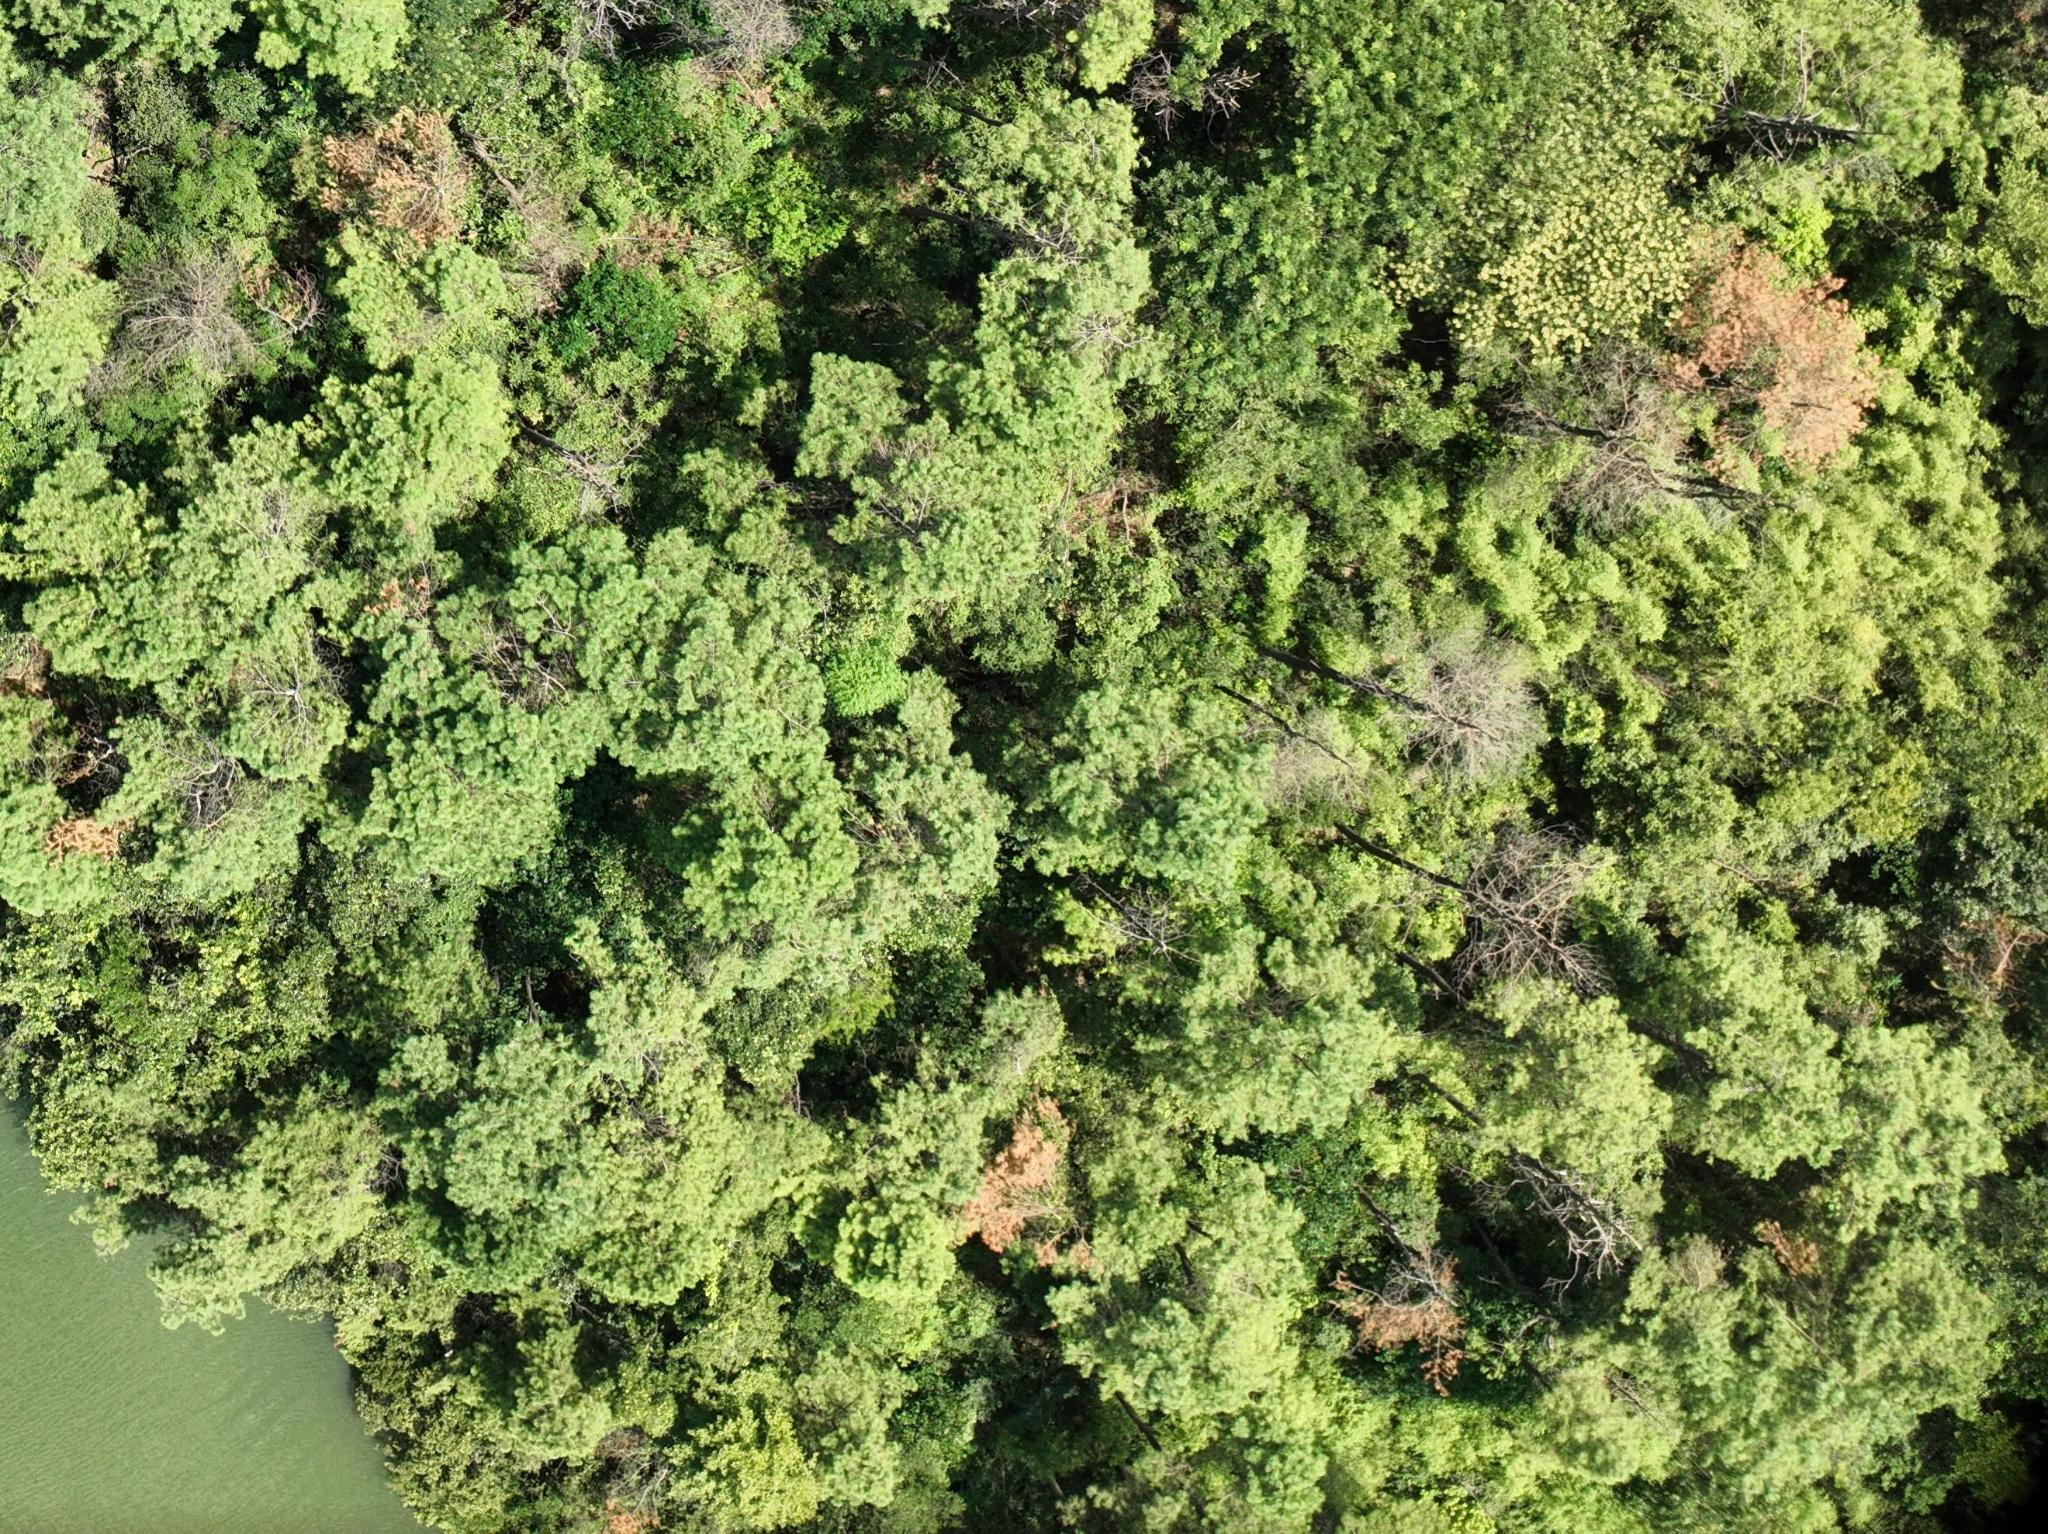dead: (1400, 635, 1532, 785), (1474, 843, 1594, 997), (701, 0, 796, 69)
heavy: (1690, 243, 1885, 467), (967, 1086, 1096, 1278), (1315, 1247, 1465, 1394), (316, 105, 466, 250), (596, 1439, 664, 1532), (42, 812, 132, 865)
